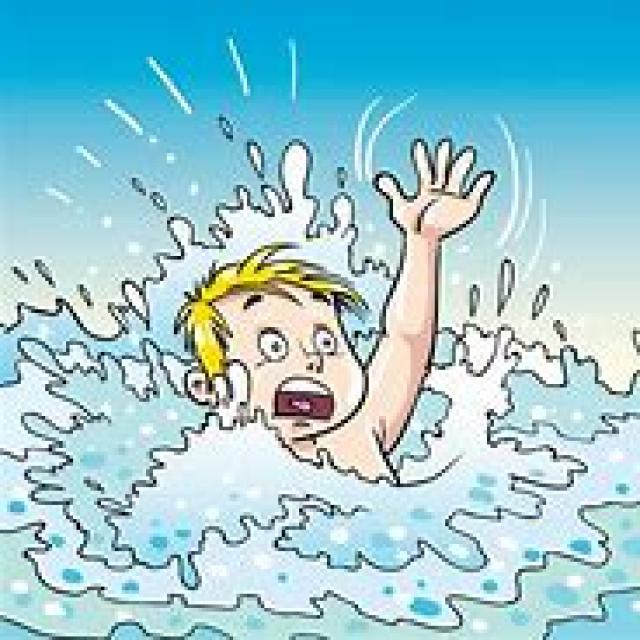drowning: (120, 110, 506, 526)
